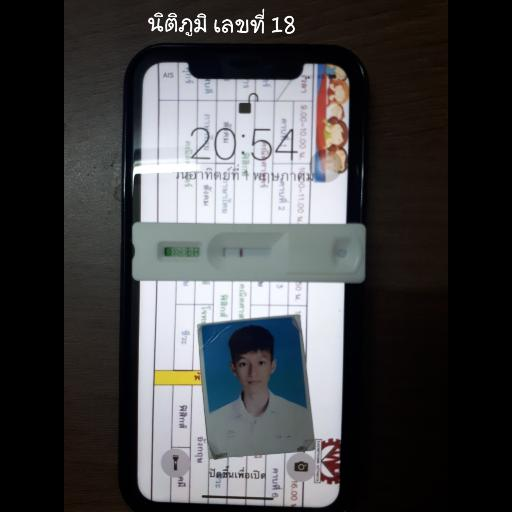Neg: (129, 222, 367, 282)
